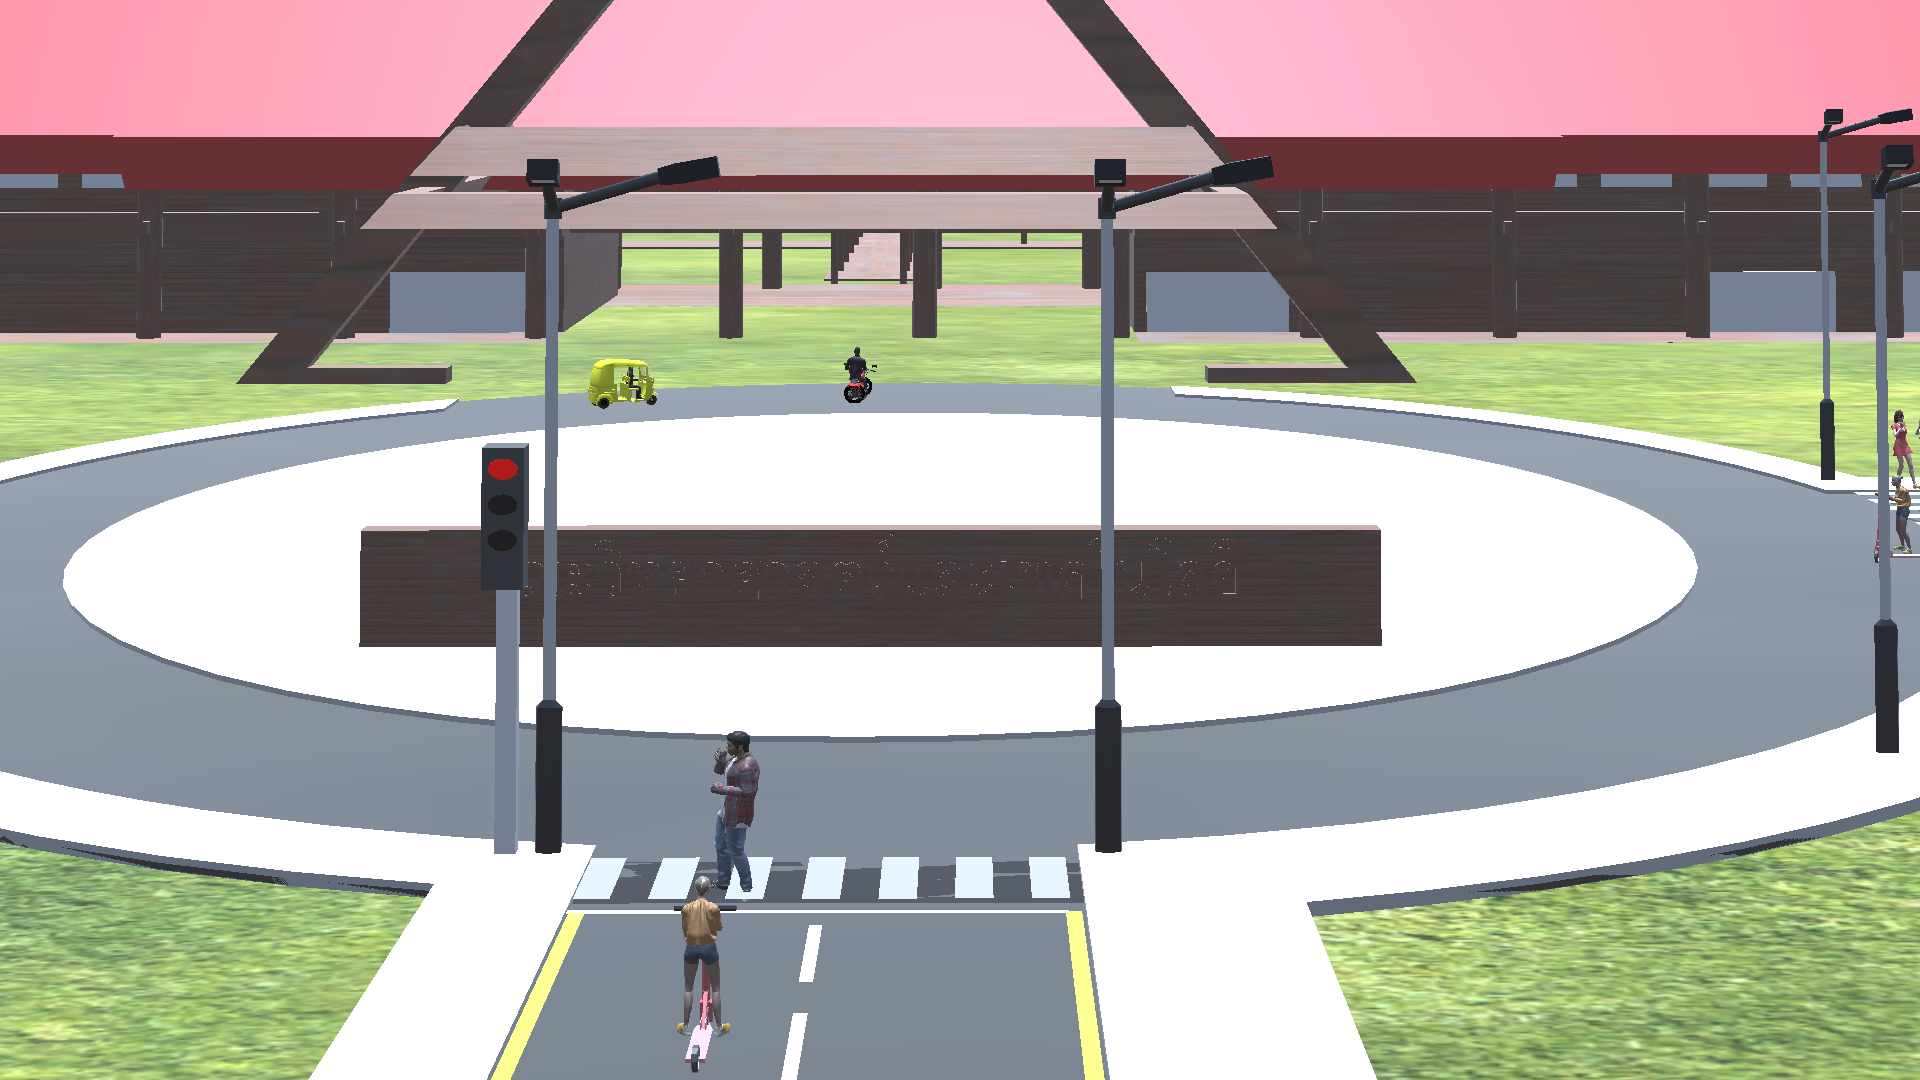pedestrian: (698, 730, 769, 893), (1889, 408, 1920, 487)
